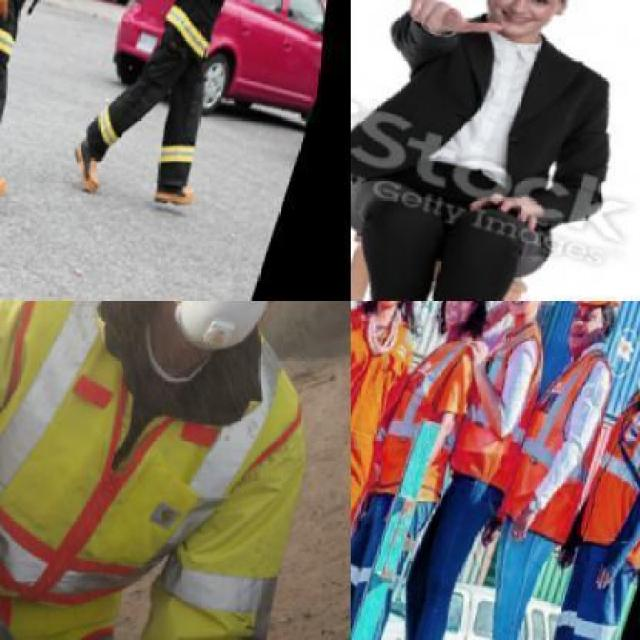vest: (0, 300, 349, 638), (504, 331, 624, 549), (351, 300, 426, 638), (369, 317, 494, 512), (446, 304, 562, 498), (574, 351, 638, 572), (151, 0, 280, 74)
